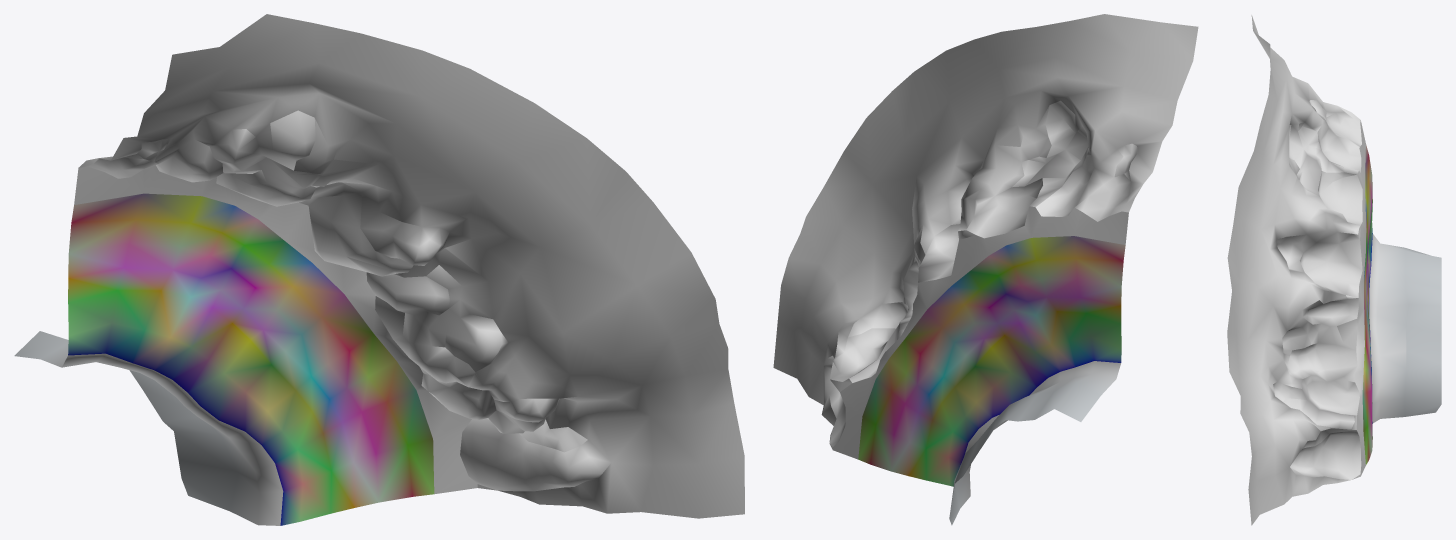
Rendered from Volcano_CurveInA_lod1.glb.
The picture shows the model from 3 angles, left to right: view 1: azimuth 30°, elevation 25°; view 2: azimuth 150°, elevation 25°; view 3: azimuth 270°, elevation 25°; orthographic projection. The views are drawn at different scales.
Visible parts, largest first — view 1: MeshNode_0, MeshNode_1; view 2: MeshNode_0, MeshNode_1; view 3: MeshNode_0, MeshNode_1.
Boxes of the visible parts, bbox=[...] form: MeshNode_0: bbox=[14, 14, 744, 525]; MeshNode_1: bbox=[68, 193, 434, 525]; MeshNode_0: bbox=[773, 14, 1198, 525]; MeshNode_1: bbox=[858, 236, 1125, 486]; MeshNode_0: bbox=[1227, 15, 1441, 525]; MeshNode_1: bbox=[1362, 144, 1372, 464].
Size of the model in its own units: 128 by 128 by 71.31.
